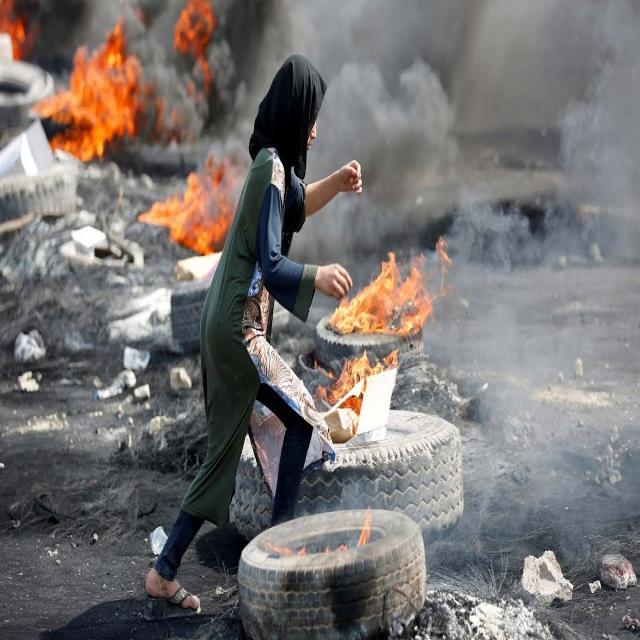fire: (32, 17, 149, 163), (330, 238, 446, 335), (139, 154, 240, 253), (314, 344, 395, 420), (176, 0, 215, 53)
